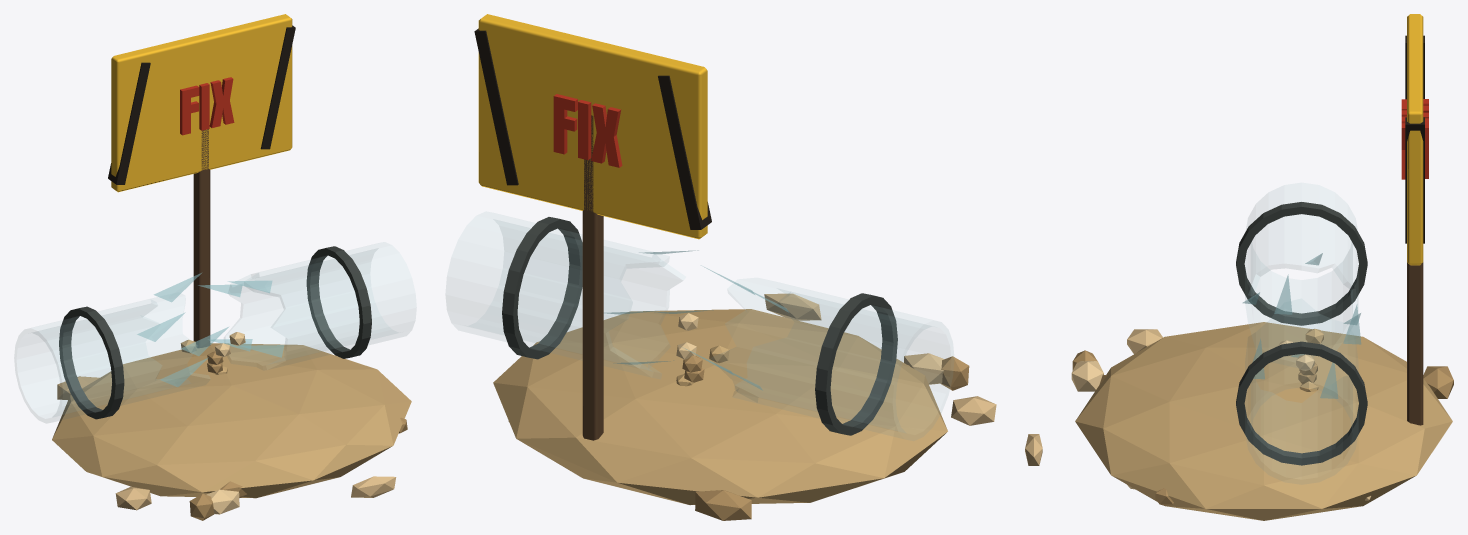
File: PipeCrack.glb
3 views of the same model, side by side, from view 1: azimuth 30°, elevation 25°; view 2: azimuth 150°, elevation 25°; view 3: azimuth 270°, elevation 25° (orthographic). The views are drawn at different scales.
Visible parts, largest first — view 1: PipeCrack; view 2: PipeCrack; view 3: PipeCrack.
Part boxes in pixels (<box>): PipeCrack: <box>15,14,416,520</box>; PipeCrack: <box>446,14,996,520</box>; PipeCrack: <box>1025,14,1453,520</box>.
Bounding box in the file's own units: 1 × 0.98 × 0.9076.
